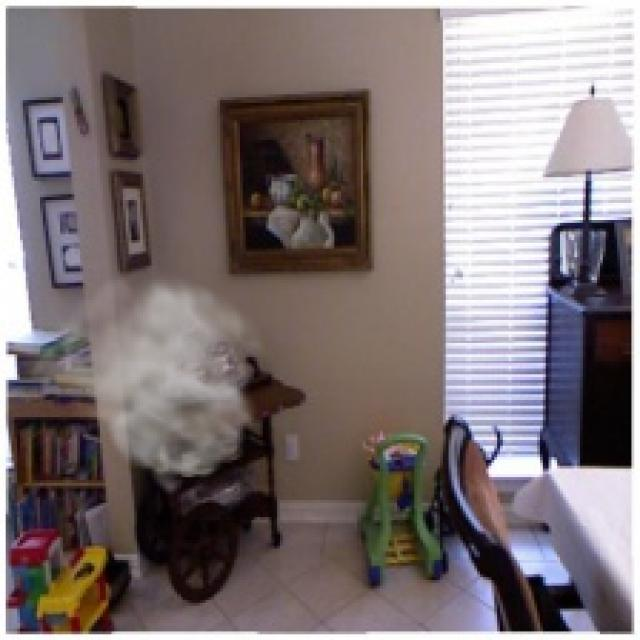smoke: (11, 269, 280, 497)
